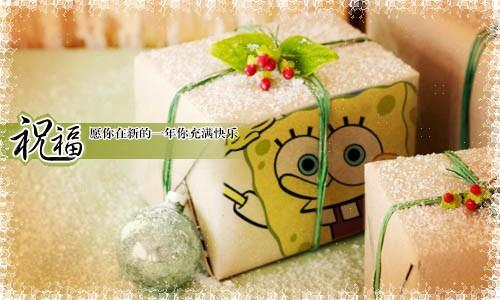SpongeBob: (221, 82, 421, 261)
